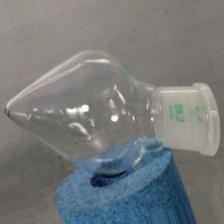Pear shaped flask: (1, 46, 219, 163)
